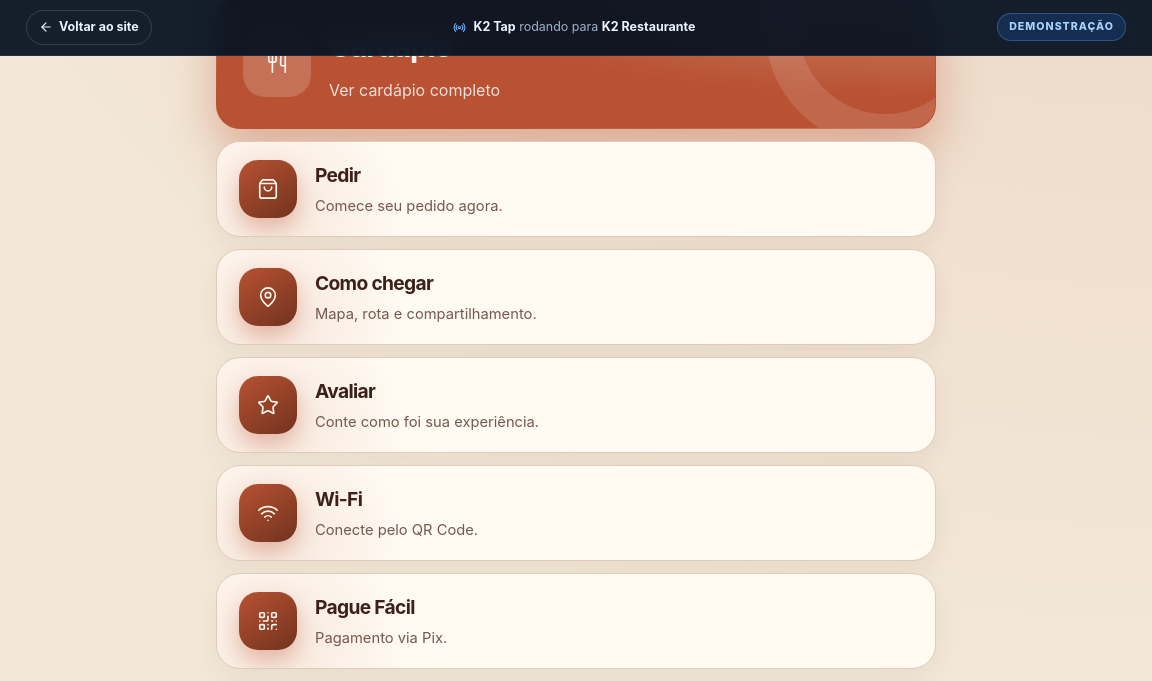
Test case: DemoExperience › fecha o modal com Escape
The width and height of the screenshot is (1152, 681).
(page scrolled)
Click the button "Avaliar Conte como foi sua experiência." at (268, 405), box [216, 357, 936, 453]
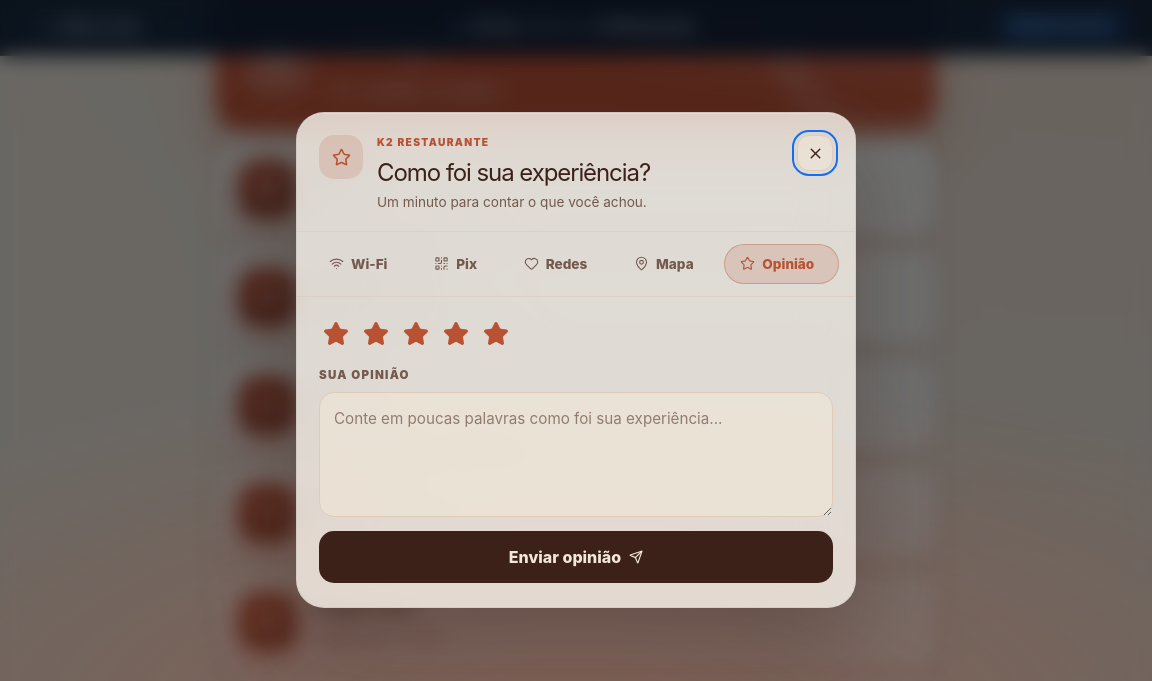
Check: the dialog is shown, box [296, 112, 856, 608]
Press Escape
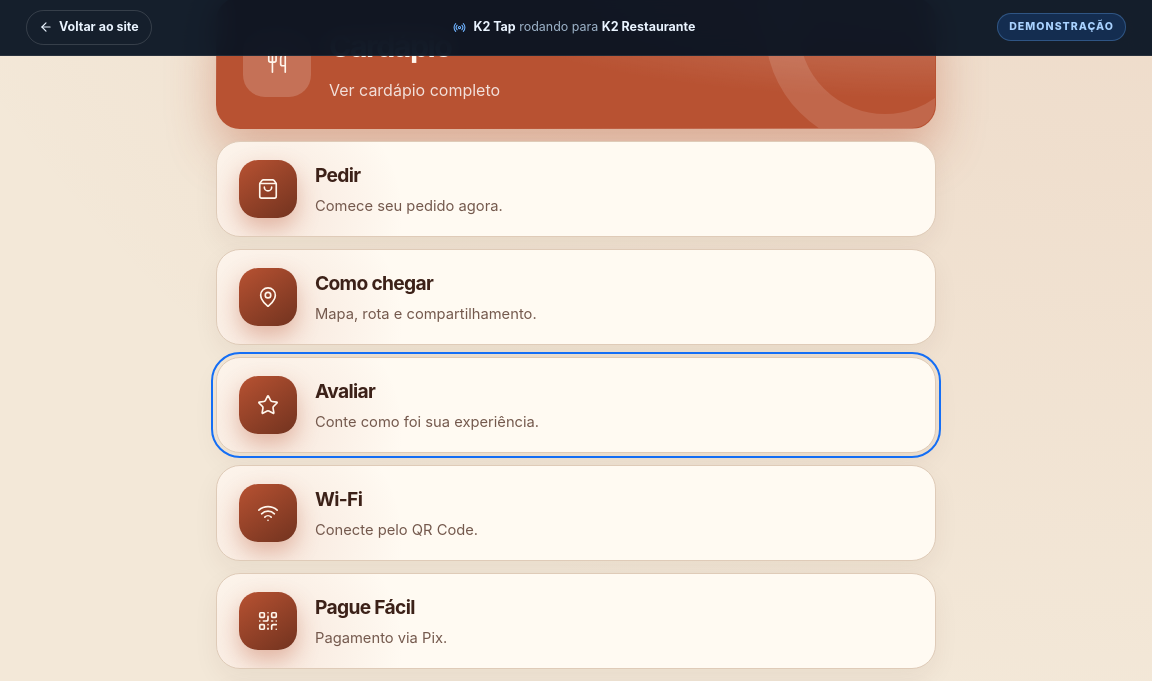
Check: the dialog is gone
